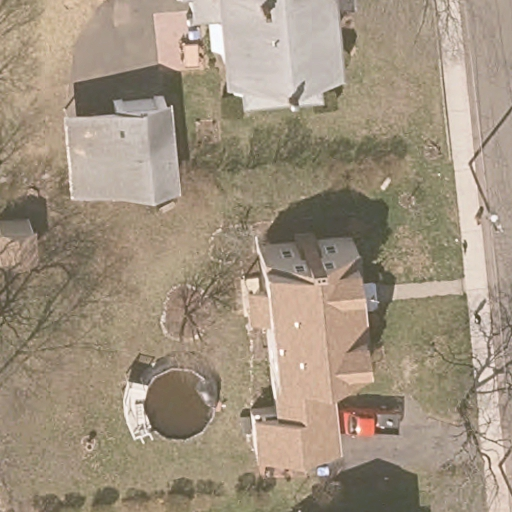DT: (468, 162, 504, 235)
